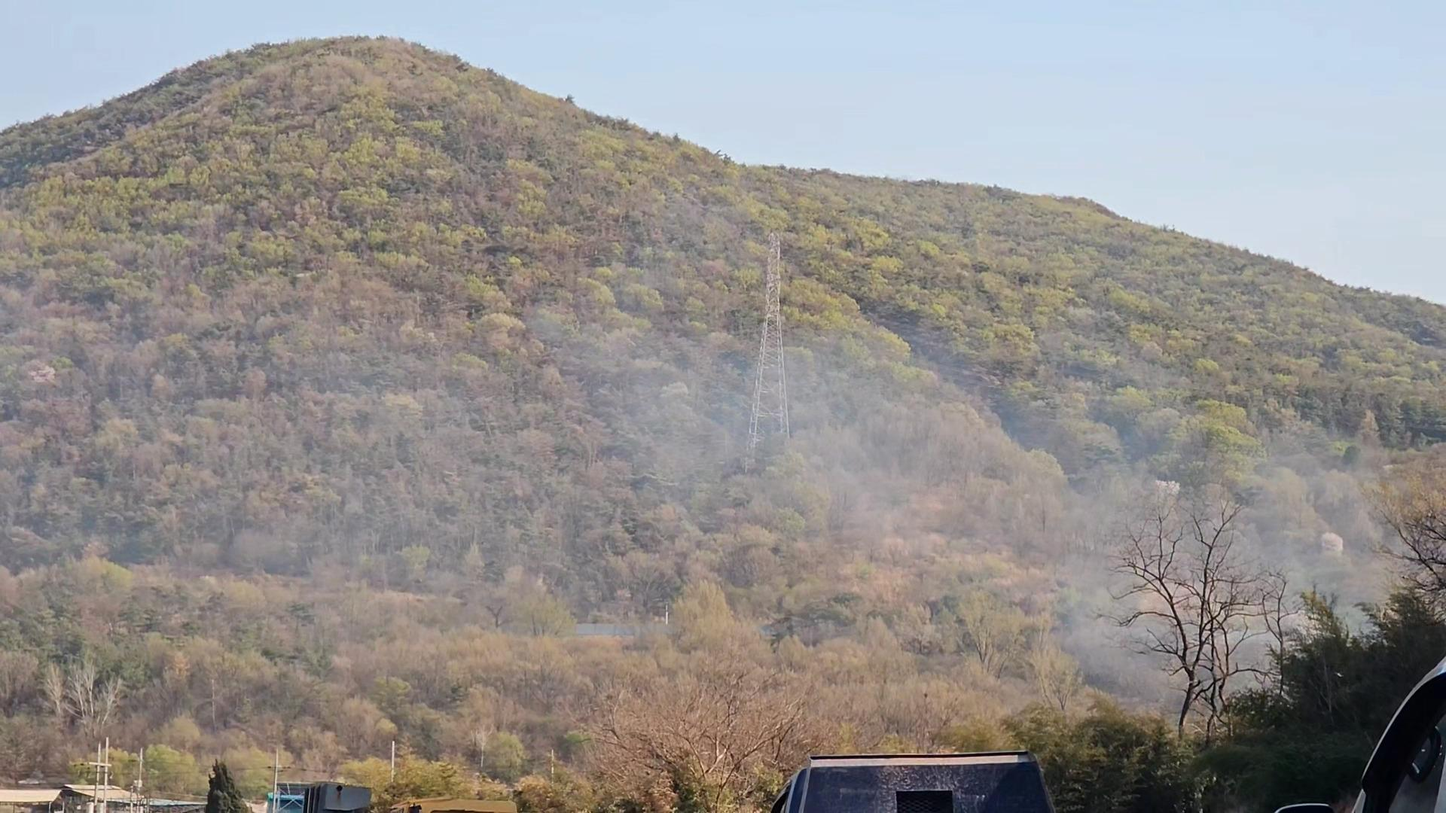smoke: (524, 191, 1419, 721)
